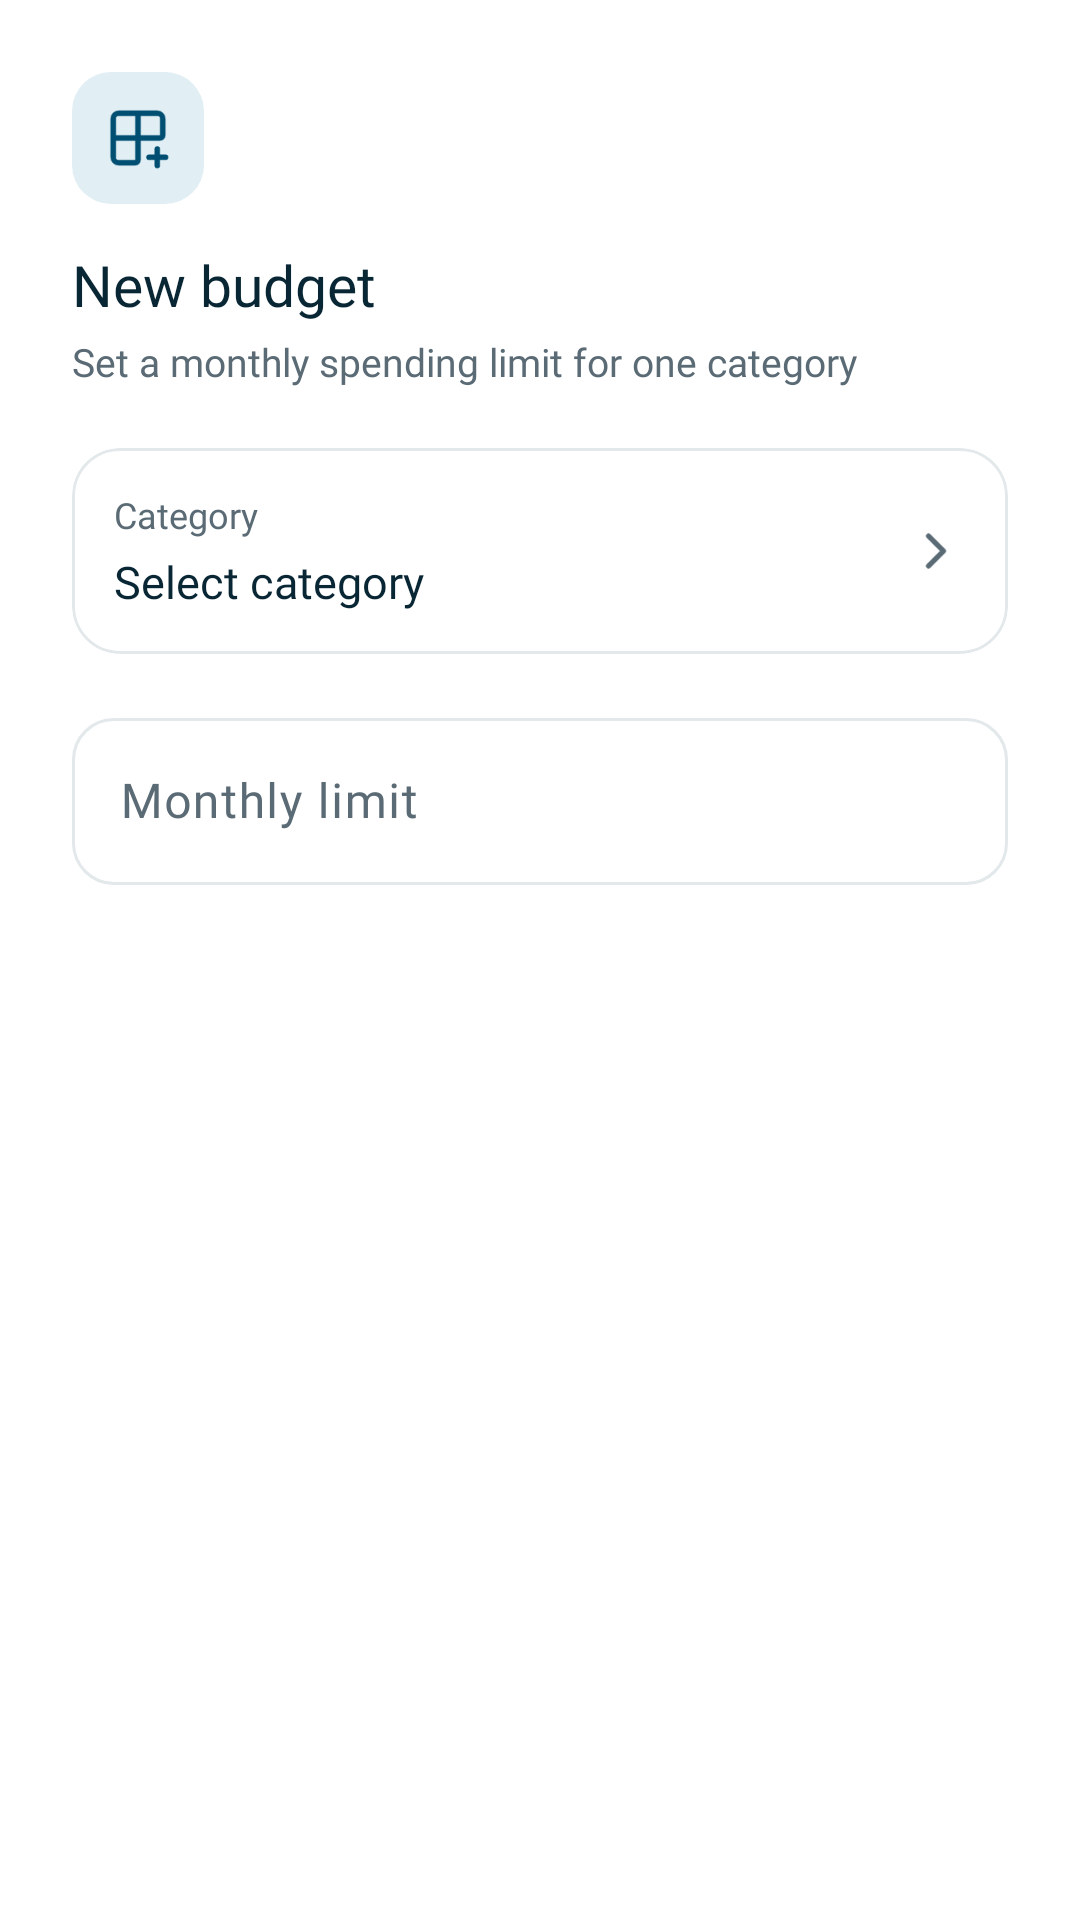

Screen size 1080px×1920px. Icon name, then its center in pixels as (x=x, y=y):
chevron right: (x=936, y=551)
grid: (x=139, y=139)
